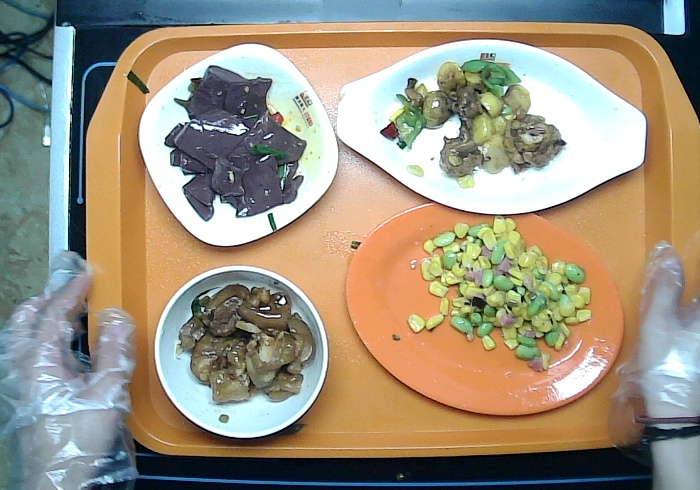NLDX-Bai_Se_Xiao_Fang_Die: (135, 43, 339, 249)
NLDX-Fan_Wan: (152, 264, 329, 441)
NLDX-Ju_Se_Pan: (344, 201, 626, 418)
NLDX-Yu_Pan: (333, 37, 650, 216)
